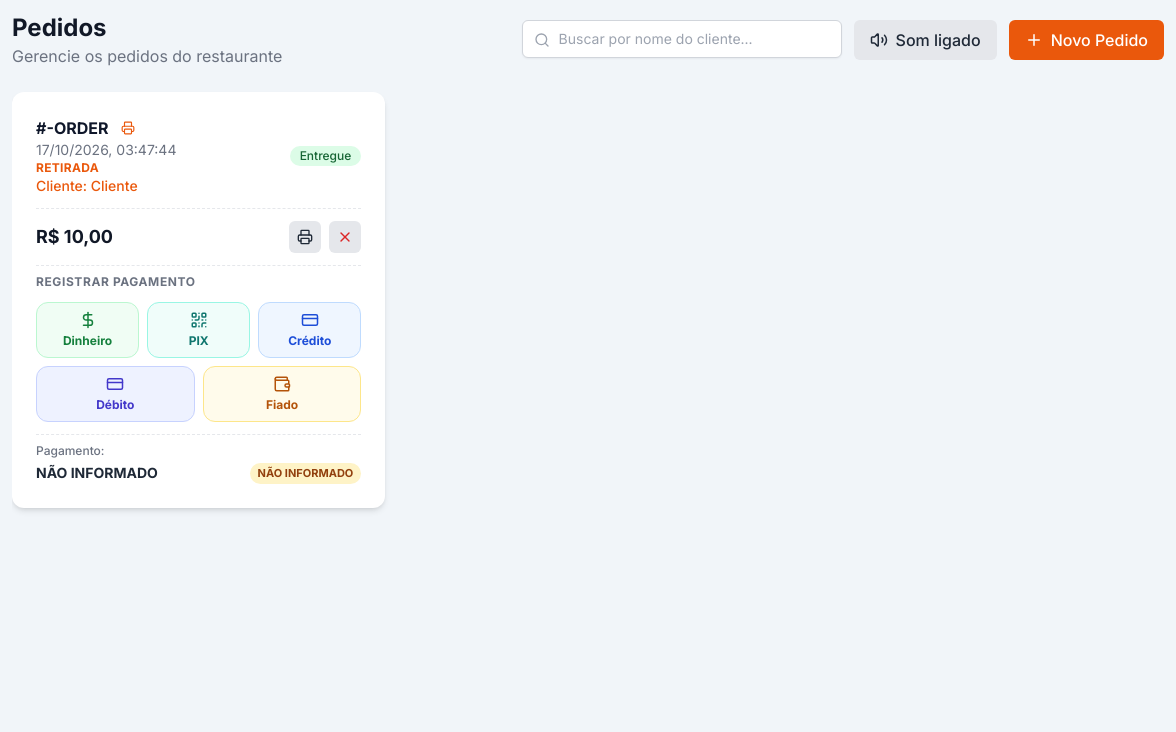
Test: payment request volume › payment Débito performs one write and only three refresh reads
Click the button "Débito".
click(115, 394)  # box [36,366,195,422]
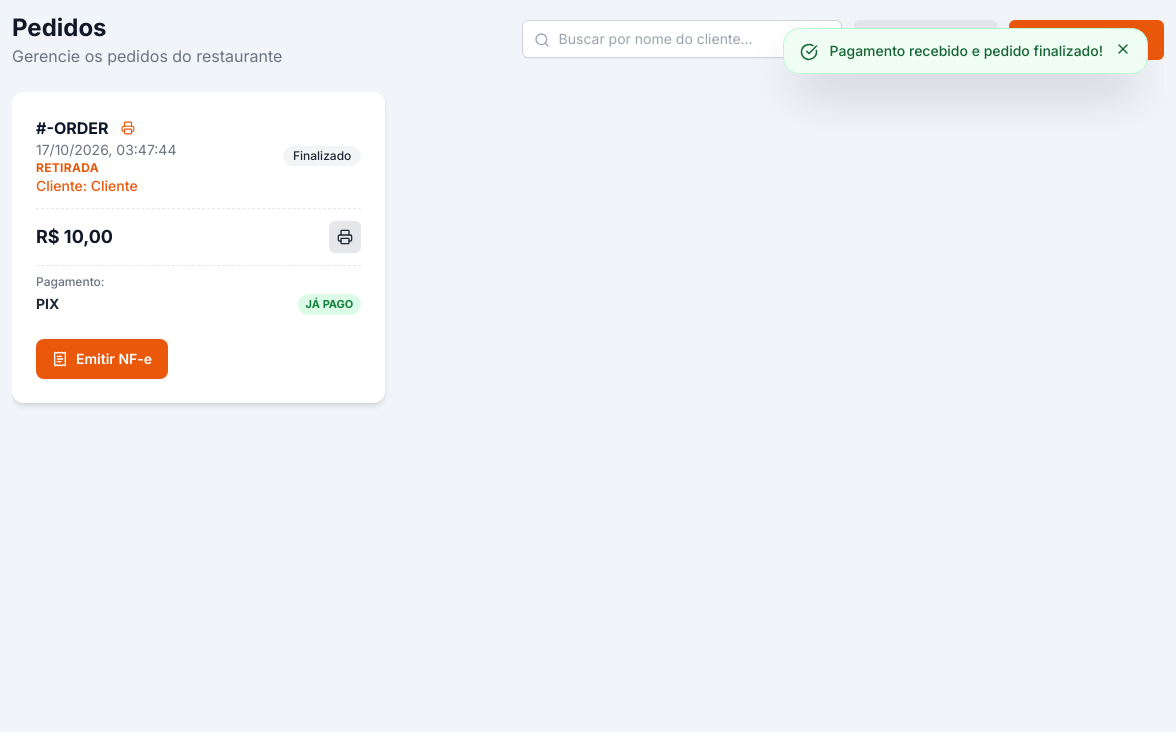
Result: the button "Débito" is gone
